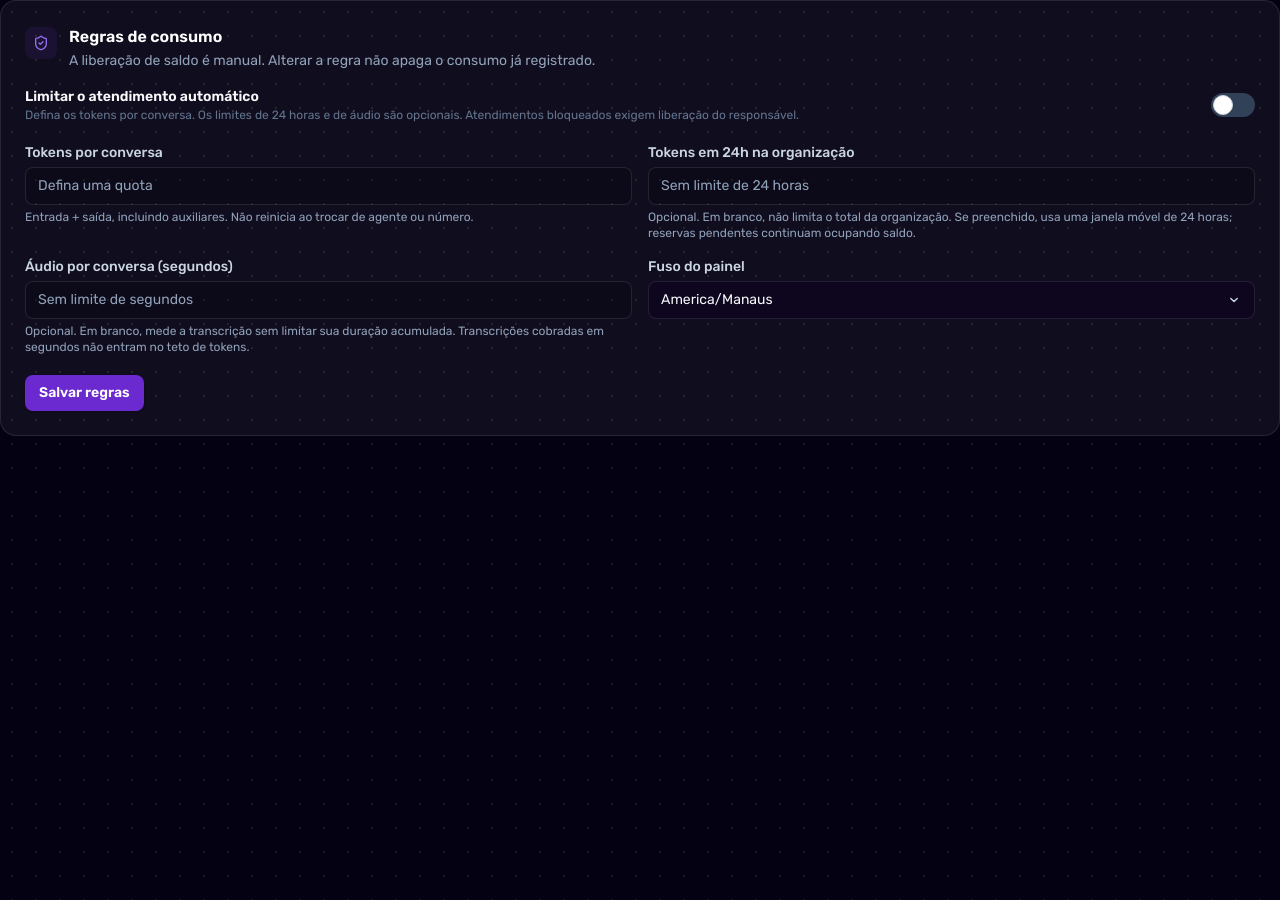
usage policy form › enables a conversation-only limit without inventing daily or audio quotas
This screenshot has width=1280, height=900.
Click the checkbox named "Limitar o atendimento automático": [1233, 105] box [1211,93,1255,117]
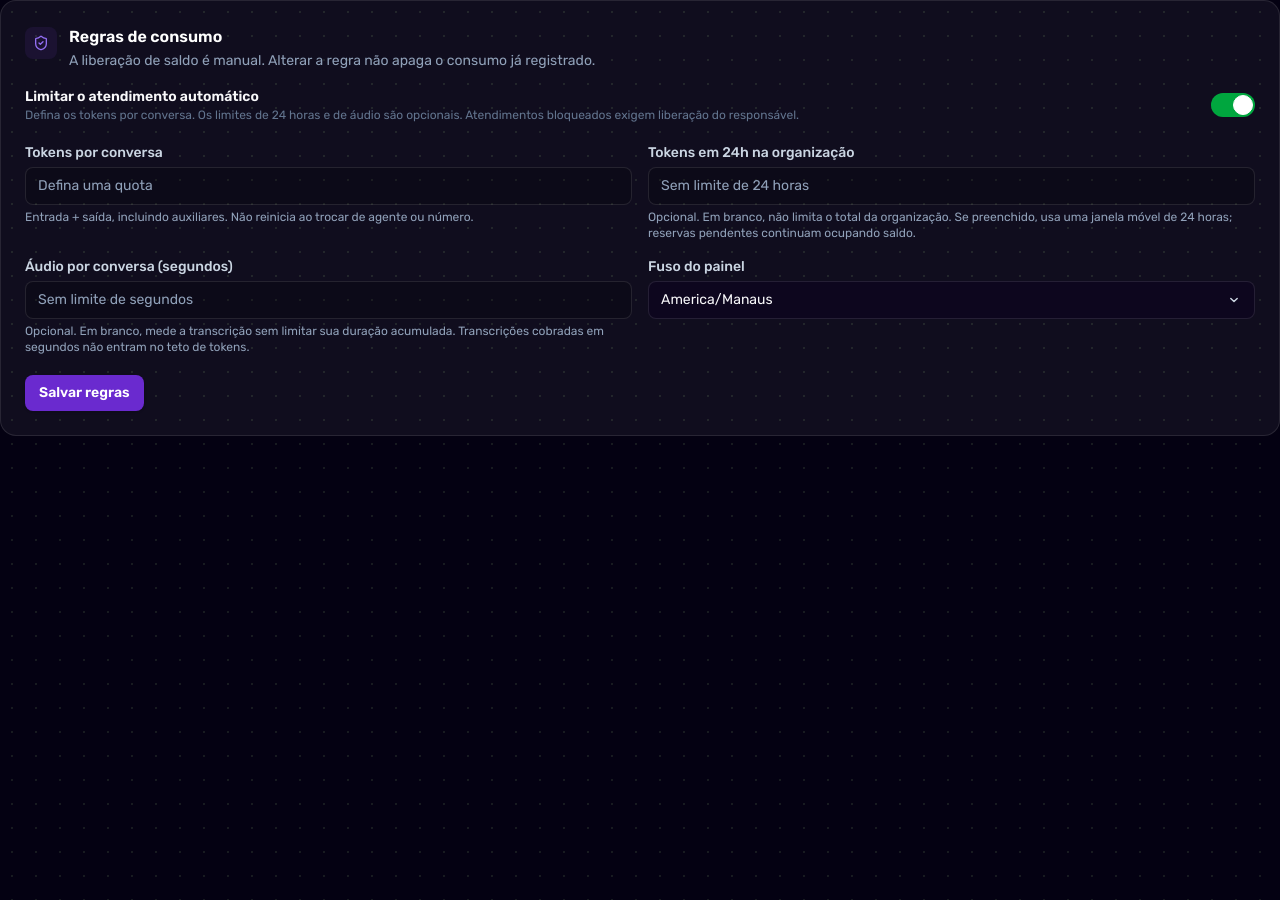
In the number field labelled "Tokens por conversa": [328, 186] box [25,167,632,205], type "300000"
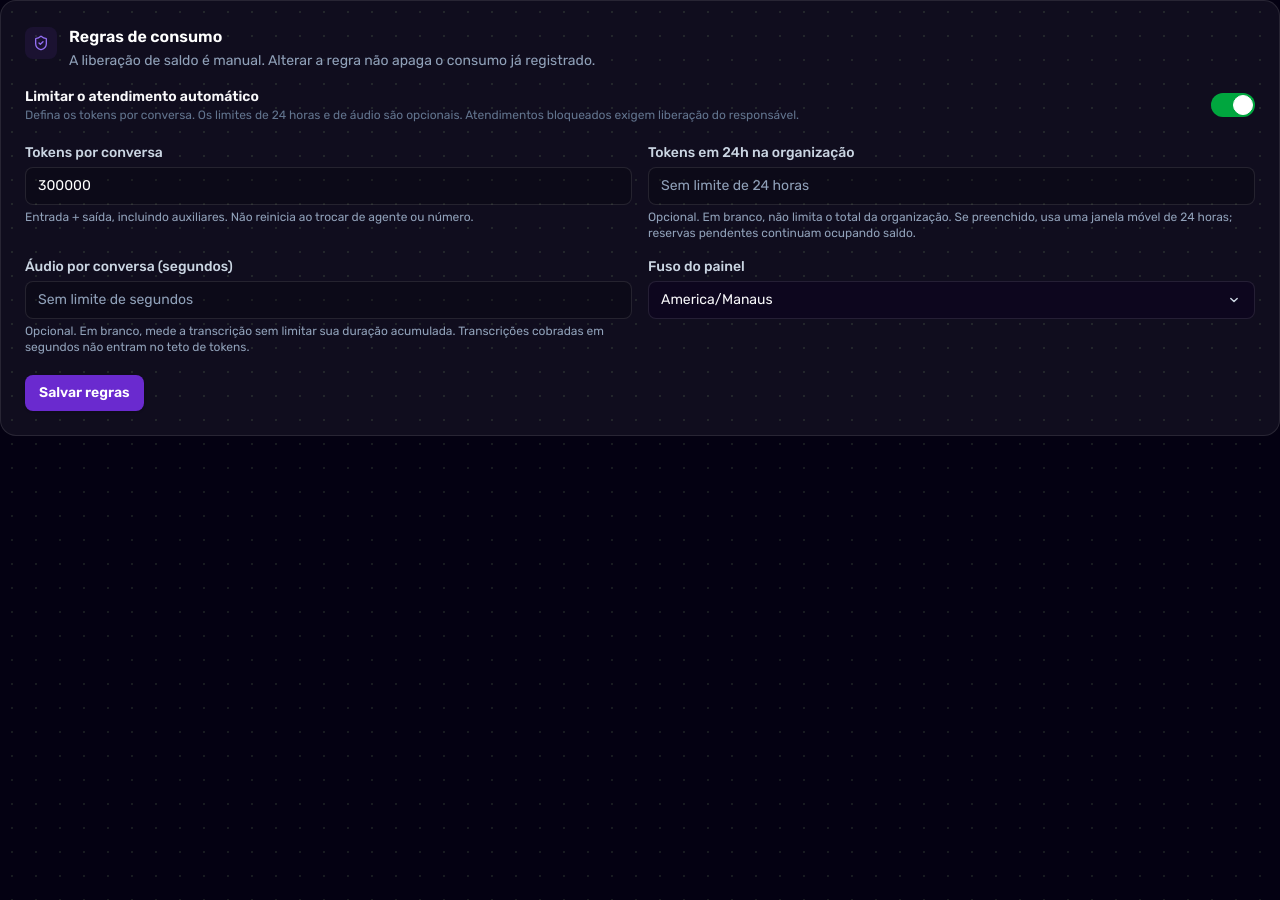
Click the button "Salvar regras": [84, 393] box [25,375,144,411]
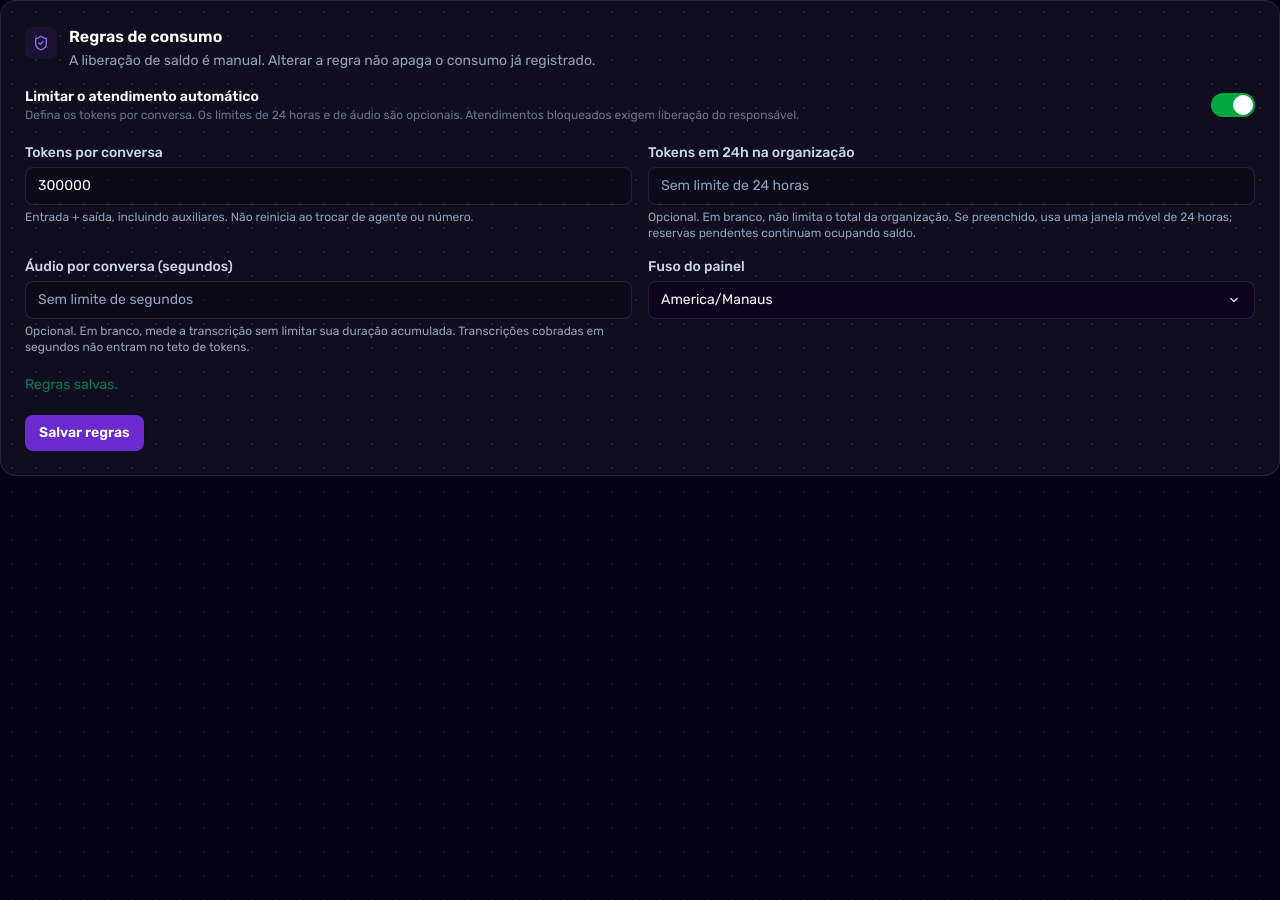
Expected: the message reads "Regras salvas.", [25,376,118,393]
